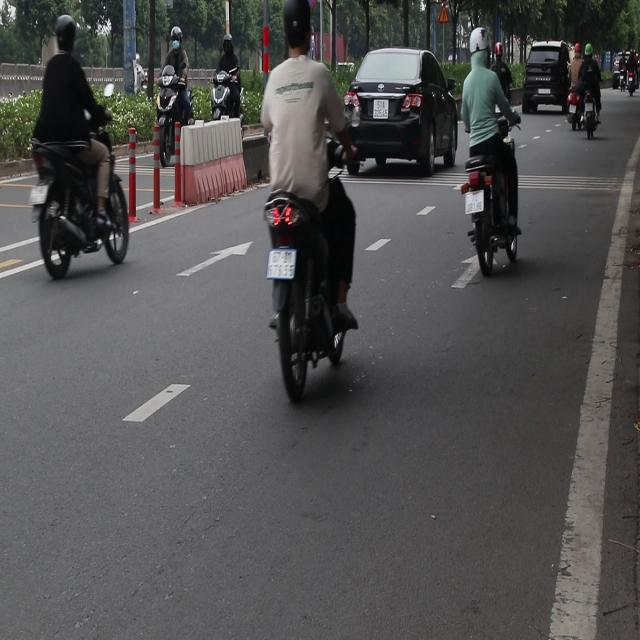car: (343, 47, 458, 178), (521, 42, 571, 110)
motorbike: (264, 182, 362, 388), (24, 144, 131, 287), (464, 160, 520, 277), (143, 61, 193, 164), (209, 58, 250, 169), (583, 88, 605, 144), (566, 83, 585, 128), (624, 70, 638, 97), (613, 68, 624, 90)
